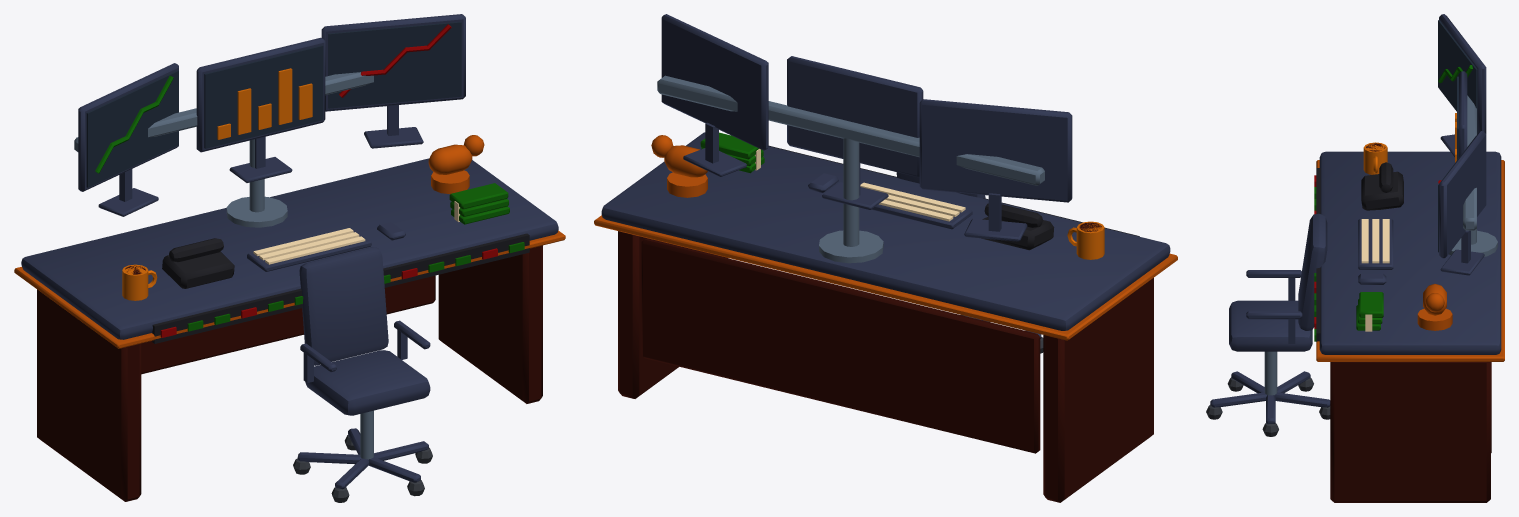
Rendered from BrokerDesk.obj.
3 renders of one model, left to right at view 1: azimuth 30°, elevation 25°; view 2: azimuth 150°, elevation 25°; view 3: azimuth 270°, elevation 25°, orthographic. The views are drawn at different scales.
Visible parts, largest first — view 1: BrokerDesk; view 2: BrokerDesk; view 3: BrokerDesk.
Part boxes in pixels (x1,y1,x2,y2): BrokerDesk: (14,14,565,502); BrokerDesk: (594,14,1177,502); BrokerDesk: (1206,14,1504,502).
Size of the model in its own units: 6.7 by 4.95 by 4.28.
